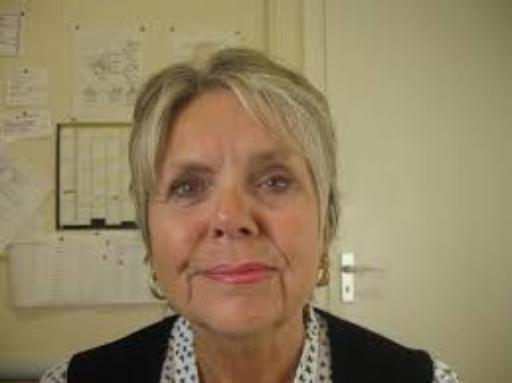left_eye: (257, 176, 300, 193)
left_lip_corner: (267, 263, 288, 280)
right_eye: (168, 178, 208, 197)
right_lip_corner: (184, 267, 217, 282)
